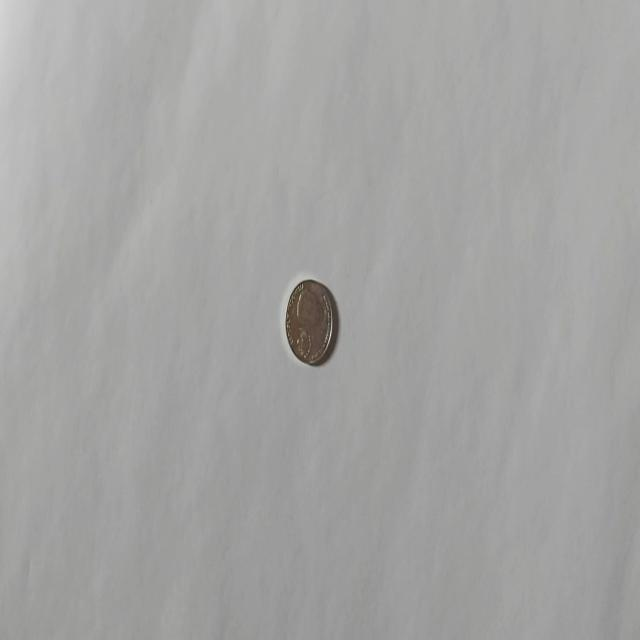seratus rupiah: (284, 278, 334, 367)
